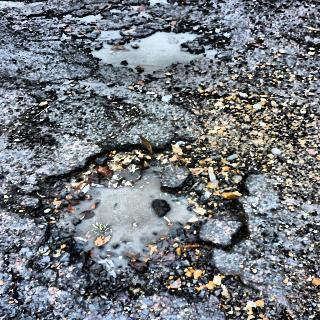pothole: (44, 126, 267, 315), (32, 0, 256, 74)
